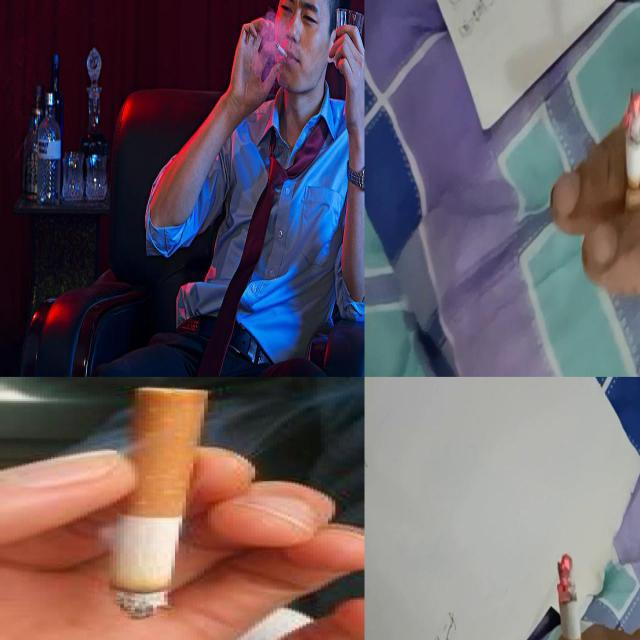smoking: (95, 383, 212, 620), (557, 551, 593, 639), (624, 88, 640, 230), (272, 34, 290, 58)
